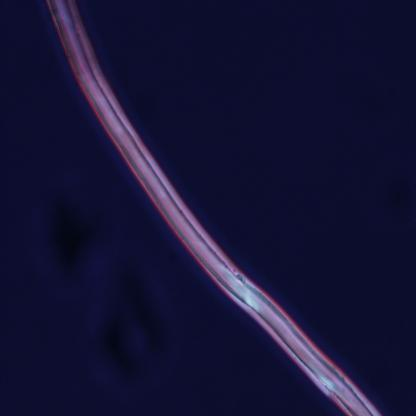Microfibre: (47, 0, 382, 414)
